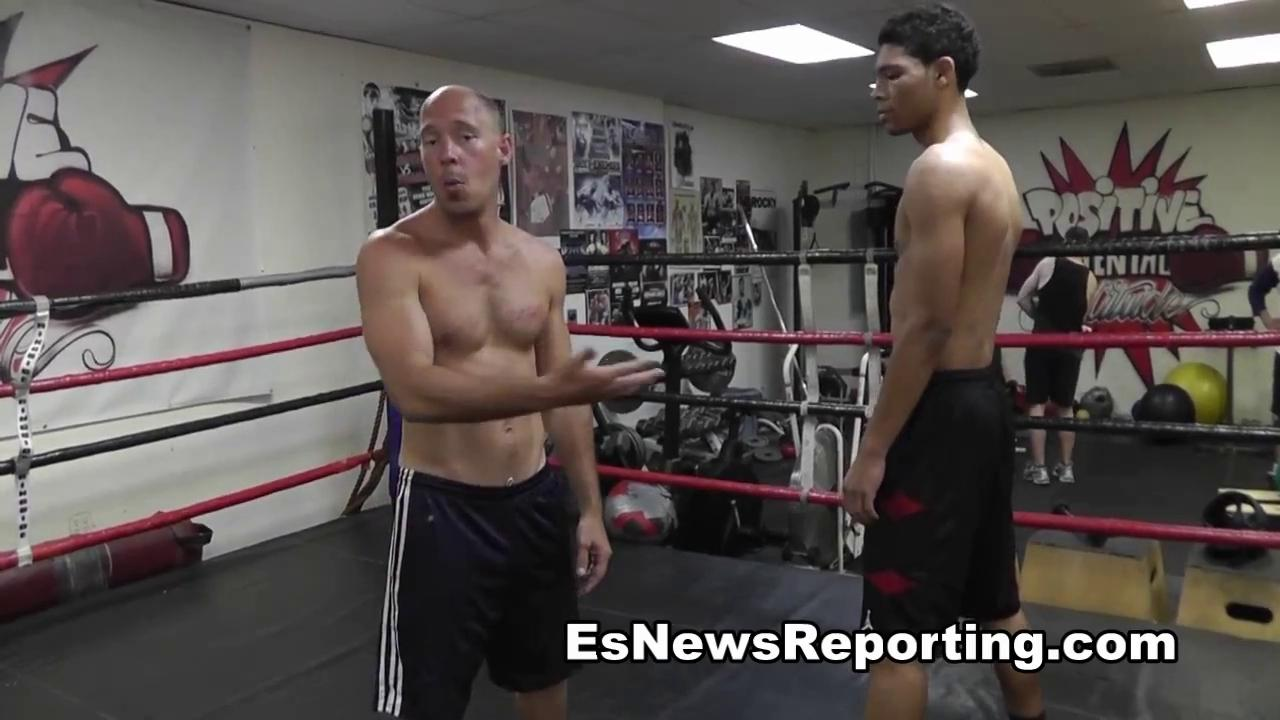victim: (346, 85, 672, 720), (826, 1, 1052, 720)
